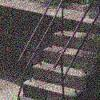stairs: (17, 27, 98, 100)
